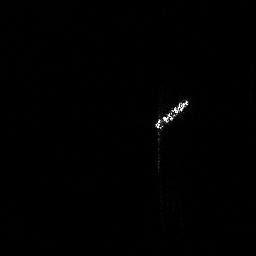ship: (149, 95, 193, 134)
